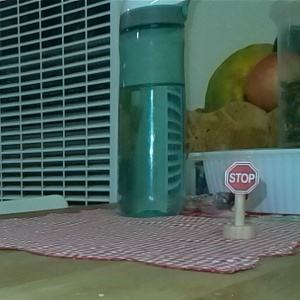stop sign: (220, 159, 261, 242)
